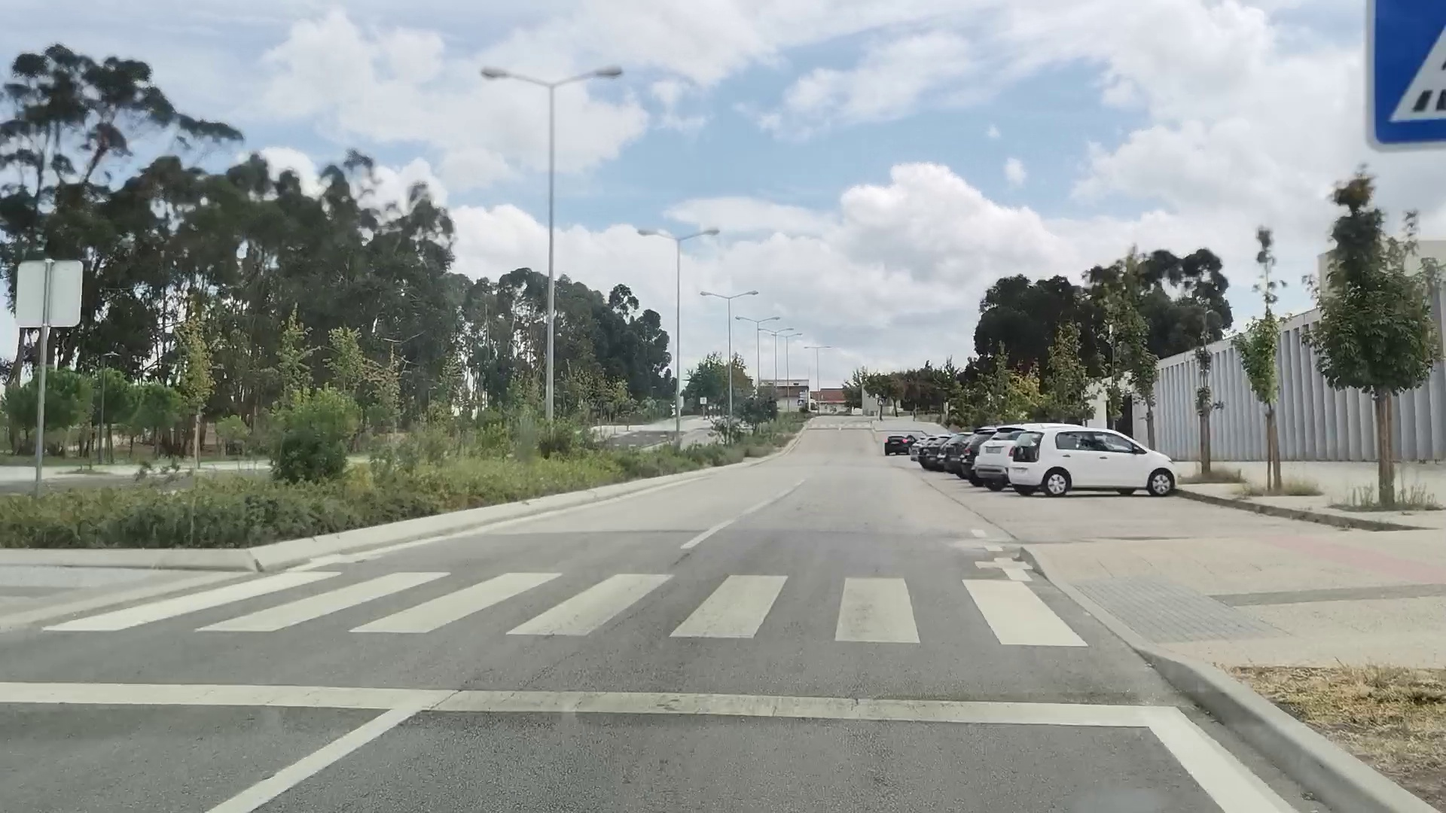Stairs: (45, 576, 1087, 650)
